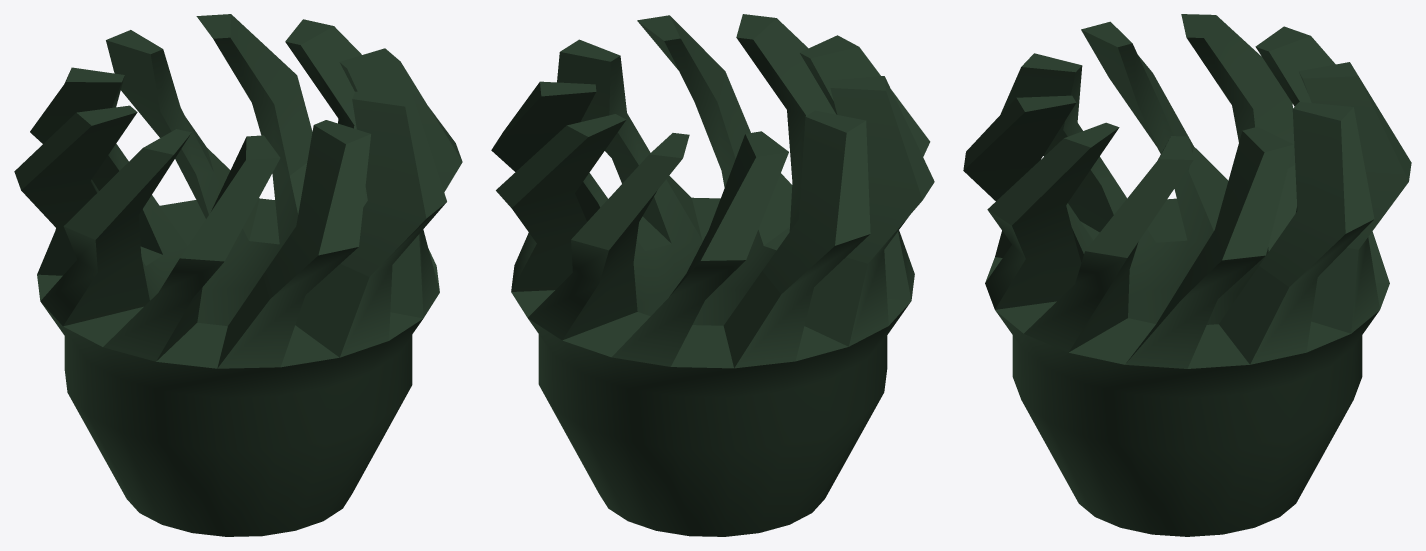
Rendered from weird bush.fbx.
3 renders of one model, left to right at view 1: azimuth 30°, elevation 25°; view 2: azimuth 150°, elevation 25°; view 3: azimuth 270°, elevation 25°, orthographic.
Visible parts, largest first — view 1: pPipe1; view 2: pPipe1; view 3: pPipe1.
Boxes of the visible parts, bbox=[...] form: pPipe1: bbox=[14, 14, 462, 536]; pPipe1: bbox=[491, 14, 934, 536]; pPipe1: bbox=[963, 14, 1411, 536].
Size of the model in its own units: 2.99 by 2.98 by 3.02.
